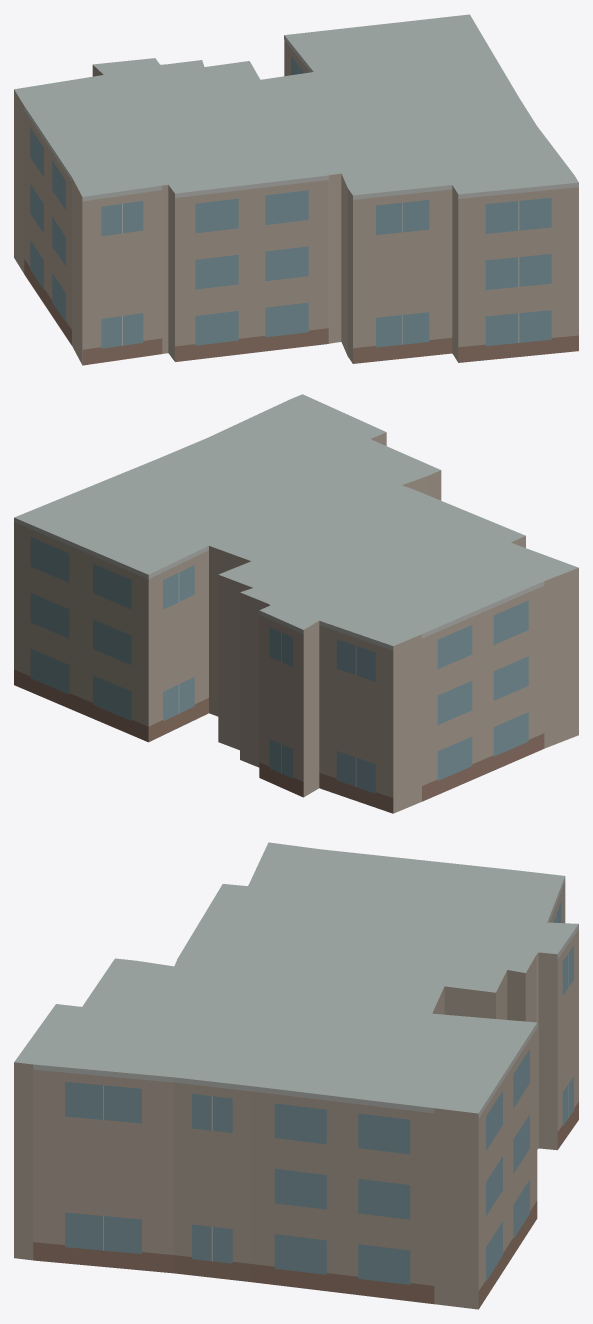
The model's file is survey-upis-32962287.glb.
The picture shows the model from 3 angles, top to bottom: view 1: azimuth 30°, elevation 25°; view 2: azimuth 150°, elevation 25°; view 3: azimuth 270°, elevation 25°; orthographic projection. The views are drawn at different scales.
Parts seen in each view (by area): view 1: survey-upis-32962287.tmp; view 2: survey-upis-32962287.tmp; view 3: survey-upis-32962287.tmp.
Boxes of the visible parts, x1,y1,x2,y2 form: survey-upis-32962287.tmp: (14,14,578,365); survey-upis-32962287.tmp: (14,394,578,813); survey-upis-32962287.tmp: (14,842,578,1309).
Size of the model in its own units: 27.15 by 9.15 by 23.91.
